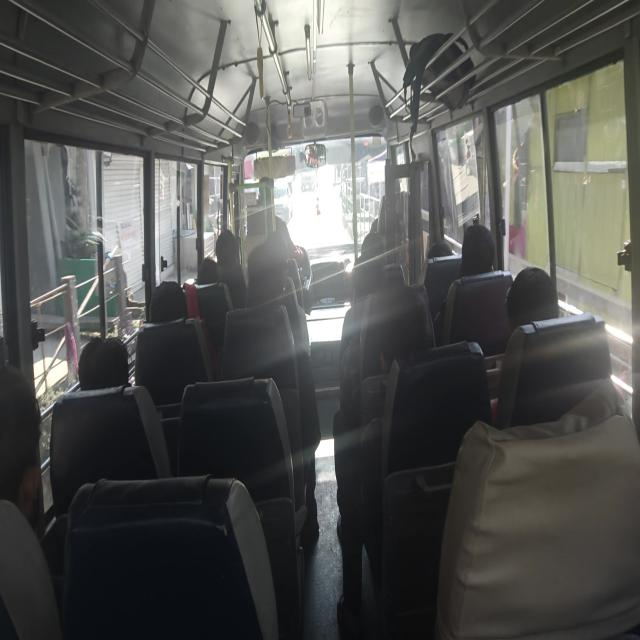person: (245, 238, 321, 541), (0, 362, 62, 638), (488, 265, 560, 421), (434, 223, 495, 343), (0, 362, 43, 526), (506, 265, 560, 332), (77, 335, 130, 390), (214, 229, 247, 309), (460, 223, 496, 277), (196, 257, 218, 285)
